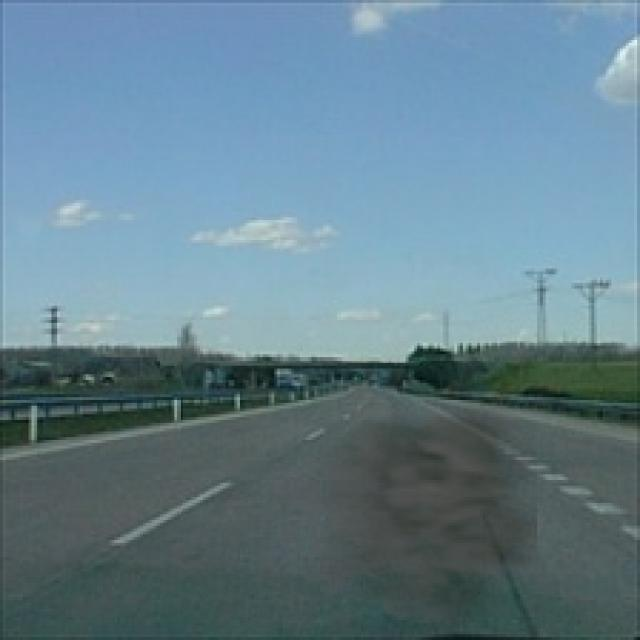smoke: (280, 403, 537, 623)
